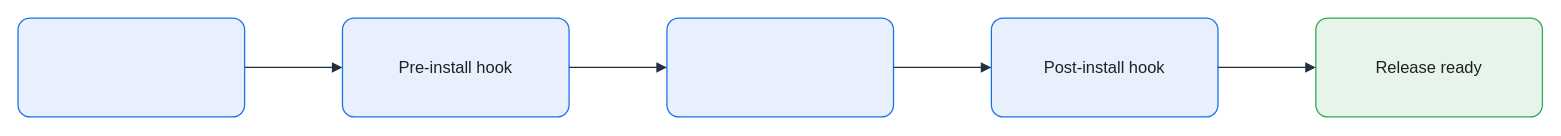
This 1561x136 diagram has some shape labels left out. Each missing label, with the box of its shape:
Helm command: (17, 17, 245, 117)
Release resources: (666, 17, 894, 117)
